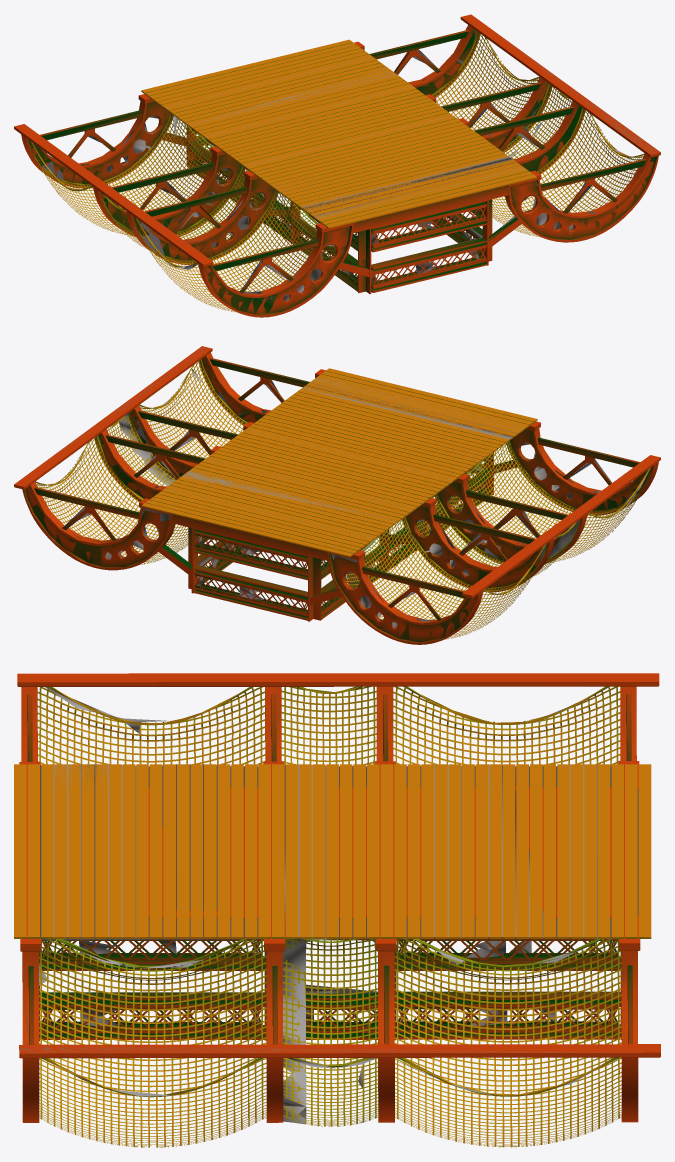
Rendered from KB3D_CSK_PropDock_A.glb.
The picture shows the model from 3 angles, top to bottom: view 1: azimuth 30°, elevation 25°; view 2: azimuth 150°, elevation 25°; view 3: azimuth 270°, elevation 25°; orthographic projection. The views are drawn at different scales.
Parts seen in each view (by area): view 1: L0, L1, L2; view 2: L0, L1, L2; view 3: L0, L1, L2.
Part boxes in pixels (left/top/right/bottom): L0: left=14, top=14, right=660, bottom=317; L1: left=28, top=15, right=658, bottom=315; L2: left=42, top=35, right=658, bottom=302; L0: left=14, top=346, right=660, bottom=644; L1: left=24, top=347, right=653, bottom=644; L2: left=39, top=347, right=650, bottom=627; L0: left=14, top=673, right=660, bottom=1147; L1: left=14, top=673, right=659, bottom=1147; L2: left=19, top=687, right=641, bottom=1144.
Size of the model in its own units: 13.74 by 2.62 by 9.88.
